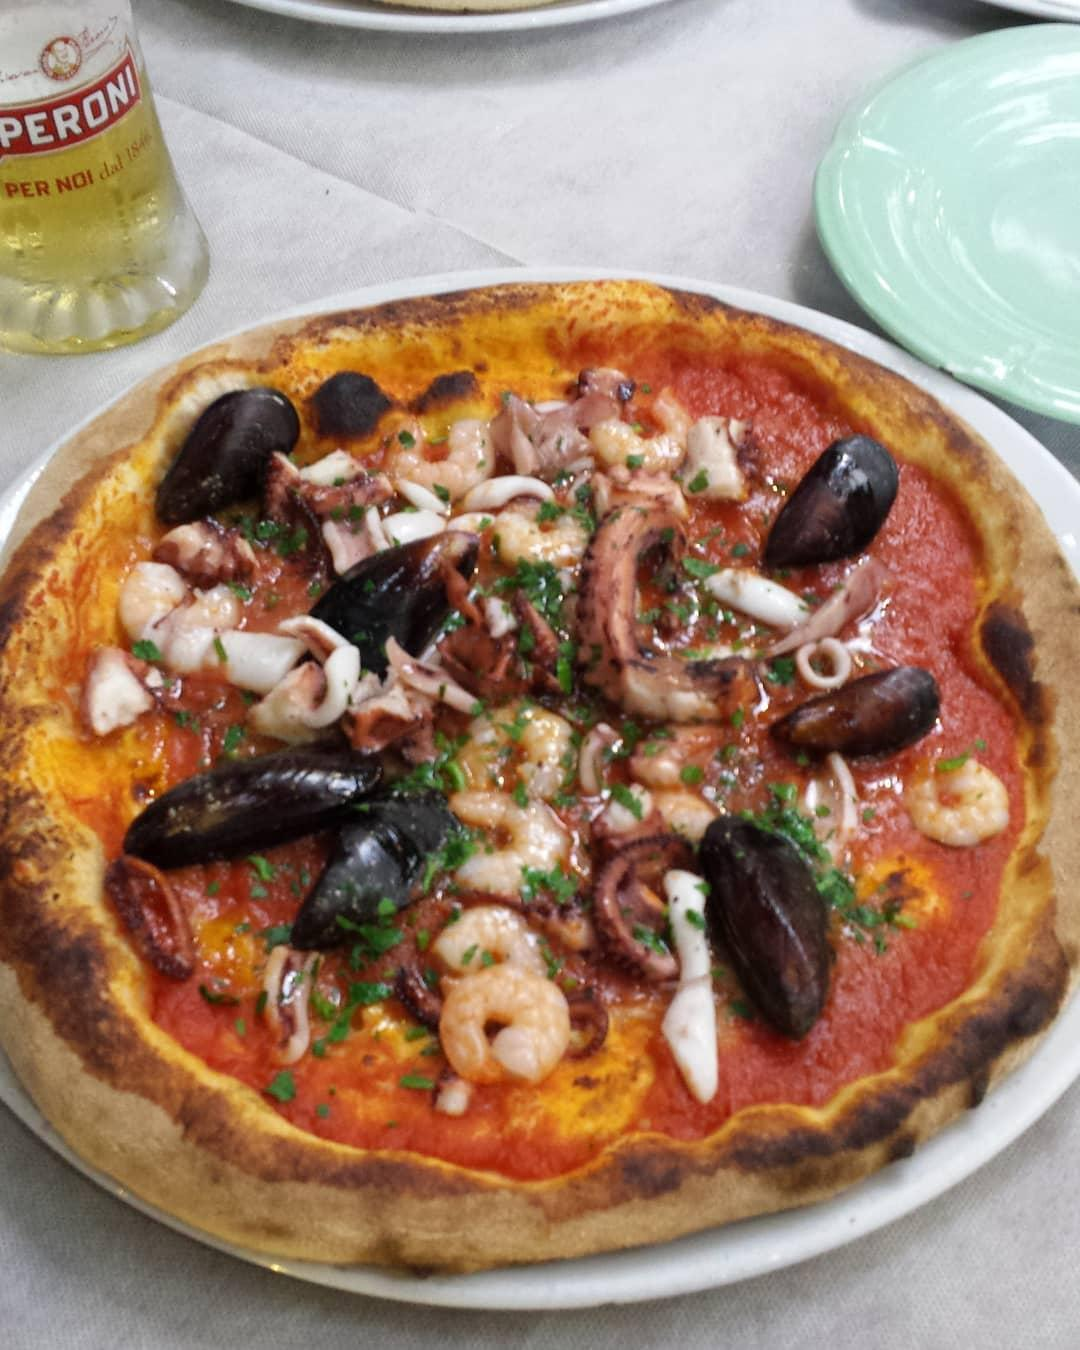Pizza: (14, 288, 1080, 1243)
